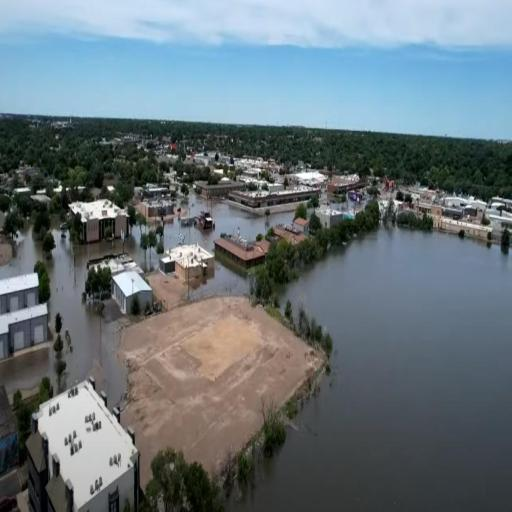flood: (225, 221, 512, 512), (43, 214, 127, 407), (164, 200, 297, 250), (0, 341, 58, 404), (0, 217, 43, 280), (202, 254, 248, 296), (124, 226, 160, 271), (174, 189, 211, 217), (141, 219, 163, 234), (189, 277, 202, 299), (170, 184, 181, 194)
house: (27, 377, 141, 512), (0, 267, 48, 364), (88, 255, 154, 319), (69, 200, 130, 246), (216, 234, 273, 277), (160, 244, 215, 286), (293, 214, 310, 238)
